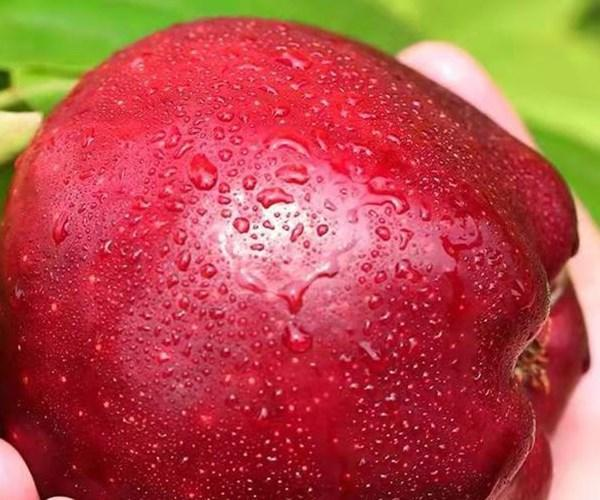apple: (2, 15, 587, 494)
